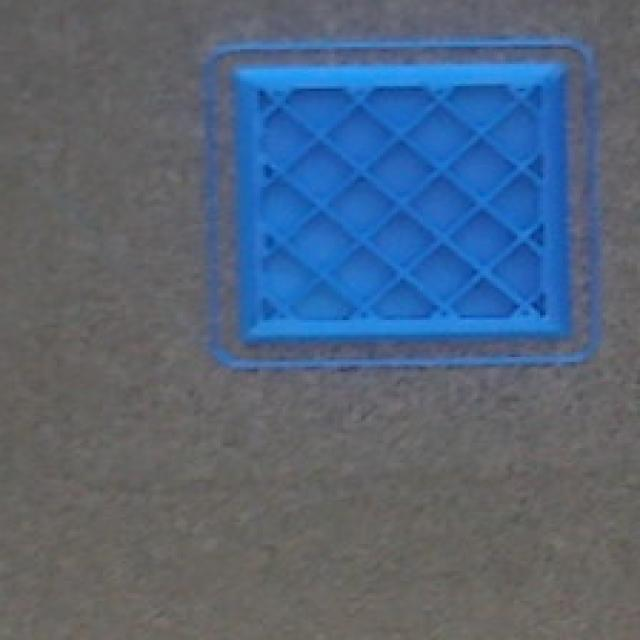noMistake: (232, 53, 580, 359)
